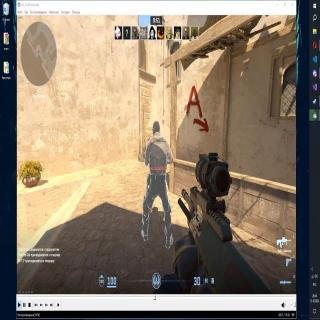T-Body: (141, 117, 171, 248)
T-Head: (151, 120, 161, 134)
